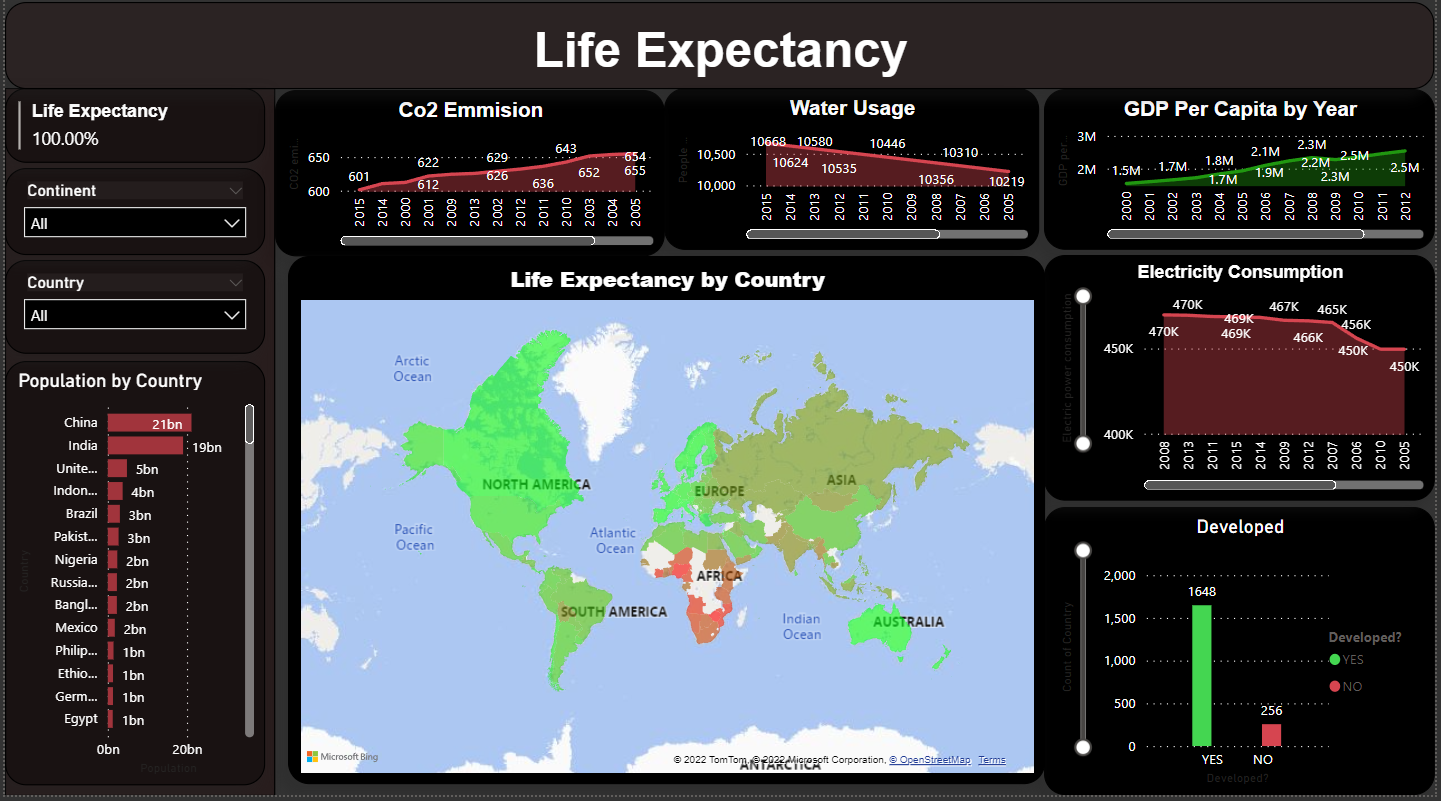

What the dashboard file says about the page in this screenshot:
{"tool":"powerbi","page":{"name":"Page 1","canvas":[1280,720],"ordinal":0},"visuals":[{"type":"areaChart","title":"GDP Per Capita by Year","fields":{"Category":["Life_Expectancy_00_15.Year"],"Y":["Sum(Life_Expectancy_00_15.GDP per capita)"]},"box":[930.3,87.4,349.7,144],"z":0},{"type":"areaChart","title":"Water Usage","fields":{"Category":["Life_Expectancy_00_15.Year"],"Y":["Sum(Life_Expectancy_00_15.People using at least basic drinking water services)"]},"box":[590.4,86.4,336,145.4],"z":1000},{"type":"areaChart","title":"Co2 Emmision","fields":{"Category":["Life_Expectancy_00_15.Year"],"Y":["Sum(Life_Expectancy_00_15.CO2 emissions)"]},"box":[241.7,88.4,348.7,149.3],"z":2000},{"type":"clusteredColumnChart","title":"Developed","fields":{"Y":["CountNonNull(Life_Expectancy_00_15.Country)"],"Category":["Life_Expectancy_00_15.Developed?"],"Series":["Life_Expectancy_00_15.Developed?"]},"box":[930.3,461.7,349.7,258.4],"z":4000},{"type":"areaChart","title":"Electricity Consumption","fields":{"Y":["Sum(Life_Expectancy_00_15.Electric power consumption)"],"Category":["Life_Expectancy_00_15.Year"]},"box":[930.3,236.7,349.7,220],"z":5000},{"type":"shape","box":[0,86.7,241.7,633.6],"z":6000,"group":"g1"},{"type":"clusteredBarChart","fields":{"Category":["Life_Expectancy_00_15.Country"],"Y":["Sum(Life_Expectancy_00_15.Population)"]},"box":[0,331.5,232.8,379.7],"z":7000,"group":"g1"},{"type":"slicer","fields":{"Values":["Life_Expectancy_00_15.Country"]},"box":[0,240.9,232.8,84.2],"z":8000,"group":"g1"},{"type":"slicer","fields":{"Values":["geography.Continent"]},"box":[0,158.6,232.8,77.9],"z":9000,"group":"g1"},{"type":"filledMap","title":"Life Expectancy by Country","fields":{"Category":["Life_Expectancy_00_15.Country"]},"box":[253.4,237.7,677.8,473.5],"z":10000},{"type":"multiRowCard","title":"Life Expectancy","fields":{"Values":["Life_Expectancy_00_15.display_life","Life_Expectancy_00_15.percent_Of_life"]},"box":[0,86.9,232.8,67.2],"z":11000,"group":"g1"},{"type":"group","id":"g1","title":"slide","box":[0,9.9,1279.7,710.4],"z":11001},{"type":"card","fields":{"Values":["Life_Expectancy_00_15.title"]},"box":[0,9.9,1279.7,77.9],"z":11500,"group":"g1"}]}

Visuals, with their boxes in screenshot pixels (x1, y1, x2, y2), scaled from the page's 1280x720 canvas onto the 1441x801 screenshot:
"GDP Per Capita by Year" areaChart: bbox(1047, 97, 1440, 257)
"Water Usage" areaChart: bbox(665, 96, 1043, 258)
"Co2 Emmision" areaChart: bbox(272, 98, 665, 264)
"Developed" clusteredColumnChart: bbox(1047, 514, 1440, 800)
"Electricity Consumption" areaChart: bbox(1047, 263, 1440, 508)
shape: bbox(0, 96, 272, 800)
clusteredBarChart - Life_Expectancy_00_15.Country x Sum(Life_Expectancy_00_15.Population): bbox(0, 369, 262, 791)
slicer - Life_Expectancy_00_15.Country: bbox(0, 268, 262, 362)
slicer - geography.Continent: bbox(0, 176, 262, 263)
"Life Expectancy by Country" filledMap: bbox(285, 264, 1048, 791)
"Life Expectancy" multiRowCard: bbox(0, 97, 262, 171)
"slide" group: bbox(0, 11, 1440, 800)
card - Life_Expectancy_00_15.title: bbox(0, 11, 1440, 98)
